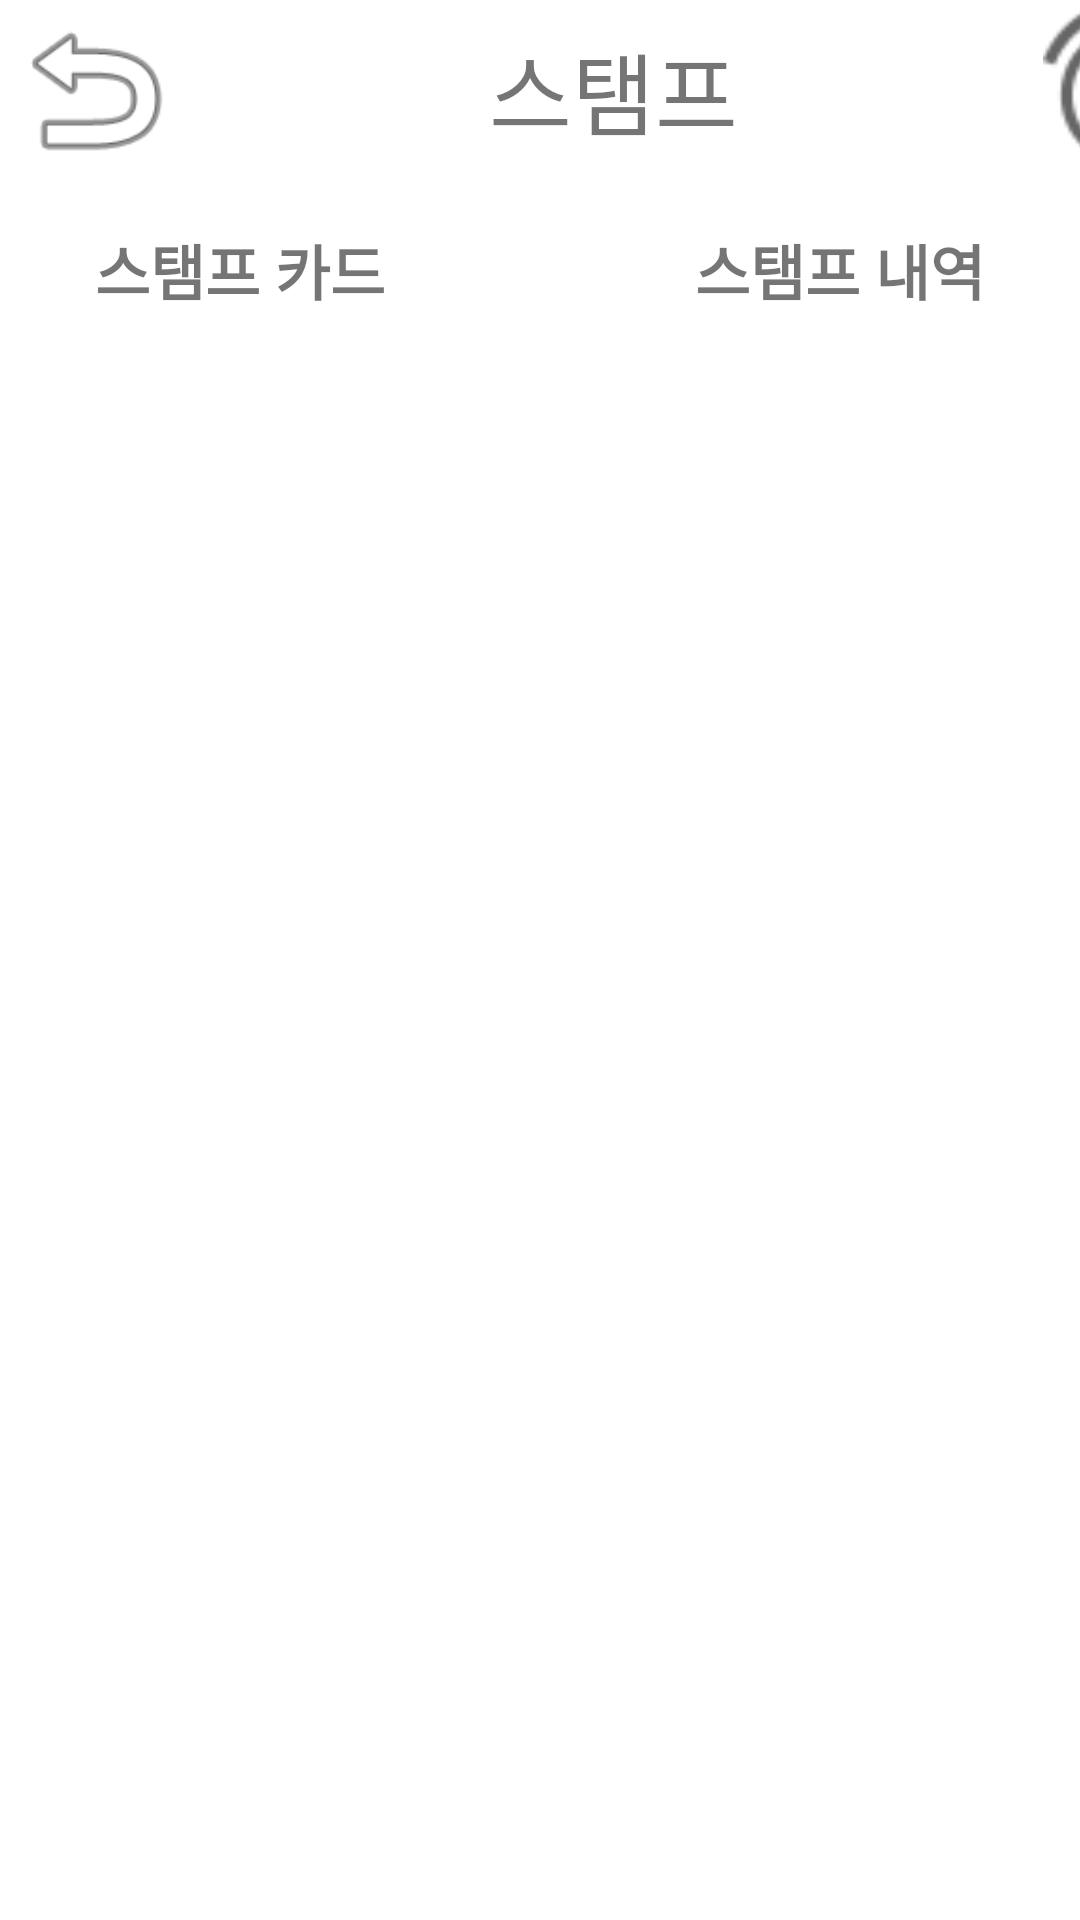

Screen size 1080 x 1920. Icon name, then its box in pixels as (x1, y1, x2, y2):
revert: (32, 32, 162, 150)
